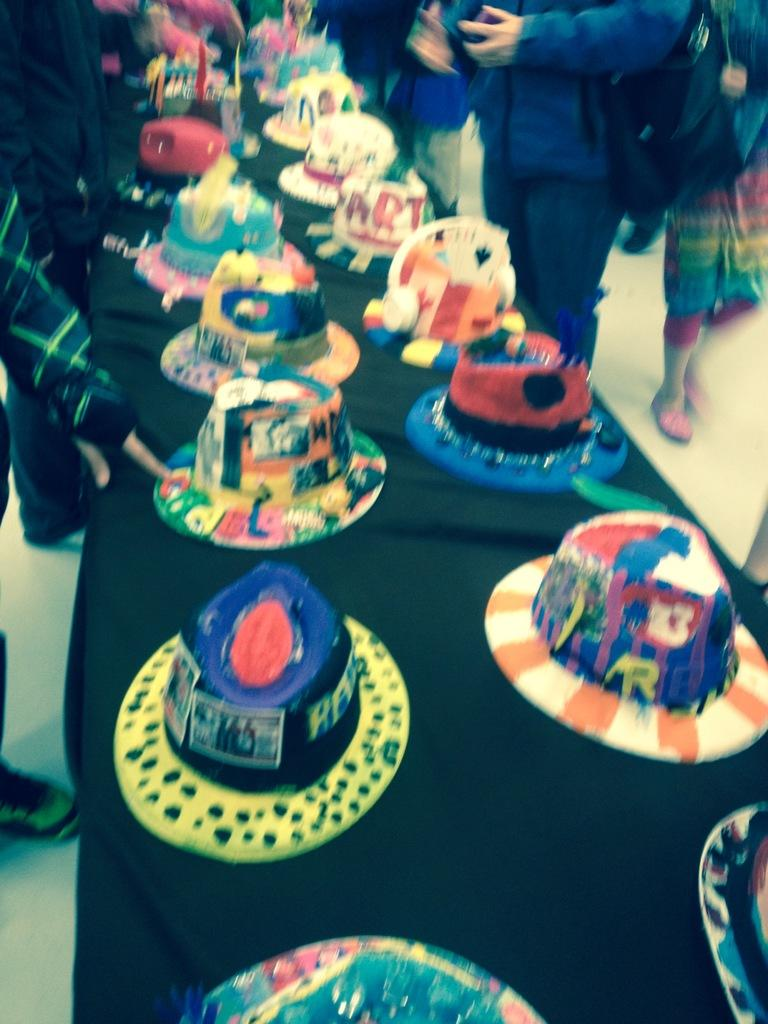Hat: (104, 0, 634, 546), (110, 558, 409, 861), (484, 509, 767, 768), (172, 933, 548, 1023), (696, 803, 767, 1023)
